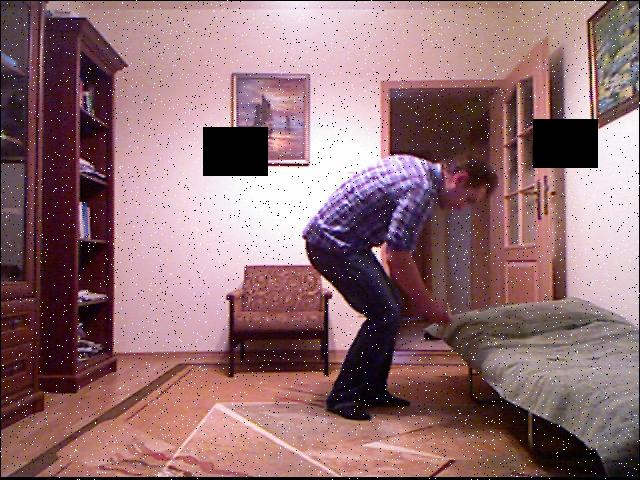bending: (293, 136, 503, 435)
